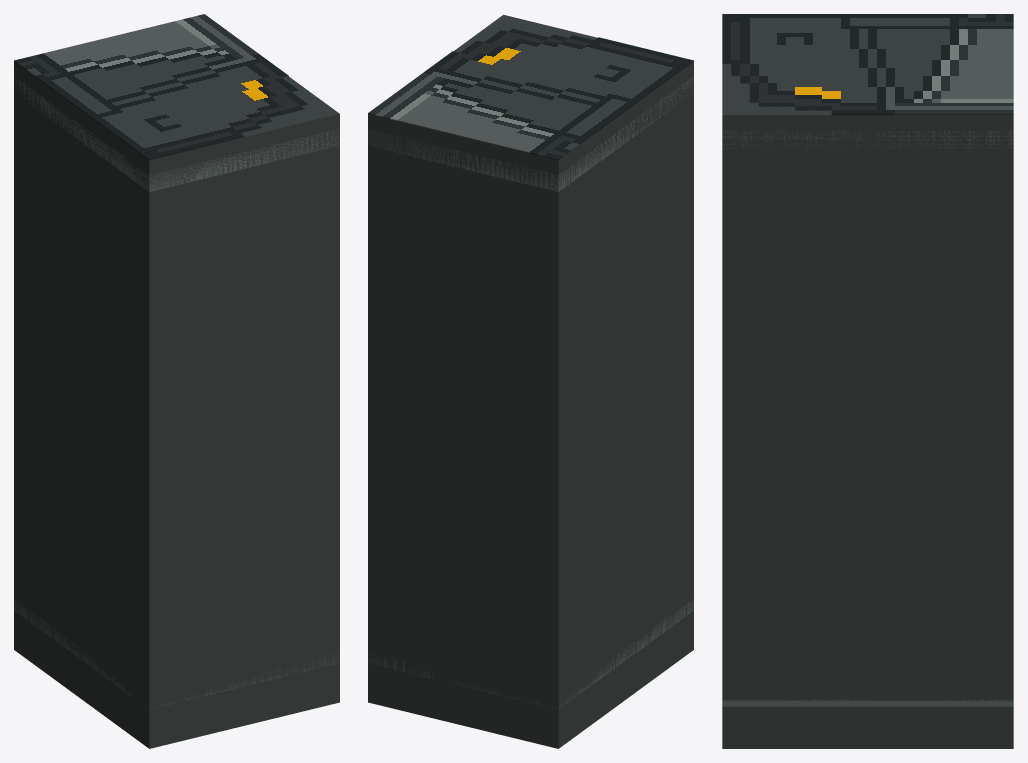
File: CMU3DInteriorVehicleAPCFront1.glb
3 views of the same model, side by side, from view 1: azimuth 30°, elevation 25°; view 2: azimuth 150°, elevation 25°; view 3: azimuth 270°, elevation 25° (orthographic). The views are drawn at different scales.
Parts seen in each view (by area): view 1: cabin bulkhead, cabin bulkhead source finish, upper armor trim, lower armor trim; view 2: cabin bulkhead, cabin bulkhead source finish, upper armor trim, lower armor trim; view 3: cabin bulkhead, cabin bulkhead source finish, lower armor trim, upper armor trim.
Part boxes in pixels (box(x1,y1,x2,y2)): cabin bulkhead: box(14, 61, 339, 748); cabin bulkhead source finish: box(14, 14, 307, 160); upper armor trim: box(14, 76, 339, 191); lower armor trim: box(14, 599, 339, 709); cabin bulkhead: box(368, 14, 693, 748); cabin bulkhead source finish: box(368, 28, 693, 160); upper armor trim: box(368, 76, 693, 191); lower armor trim: box(368, 598, 693, 709); cabin bulkhead: box(722, 64, 1013, 748); cabin bulkhead source finish: box(722, 14, 1013, 114); lower armor trim: box(722, 699, 1013, 706); upper armor trim: box(723, 130, 1013, 149).
Bounding box in the file's own units: 0.8125 × 2.4 × 1.
Materials: 4 (1 with a texture image).
